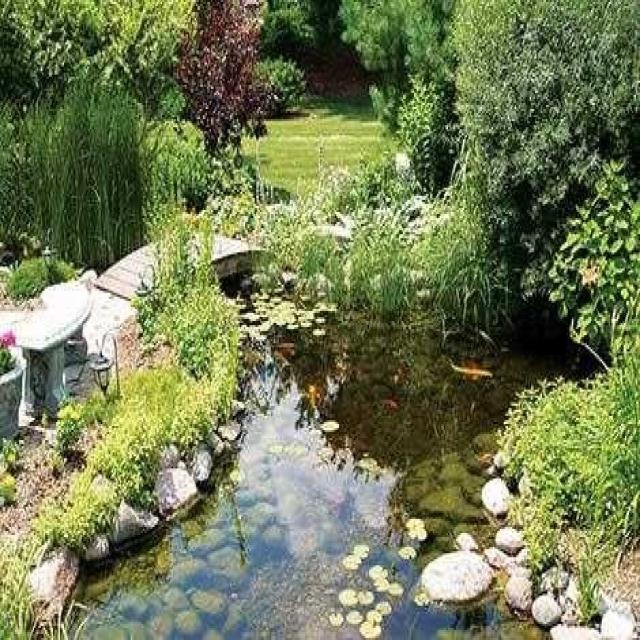Ponds: (24, 252, 640, 640)
